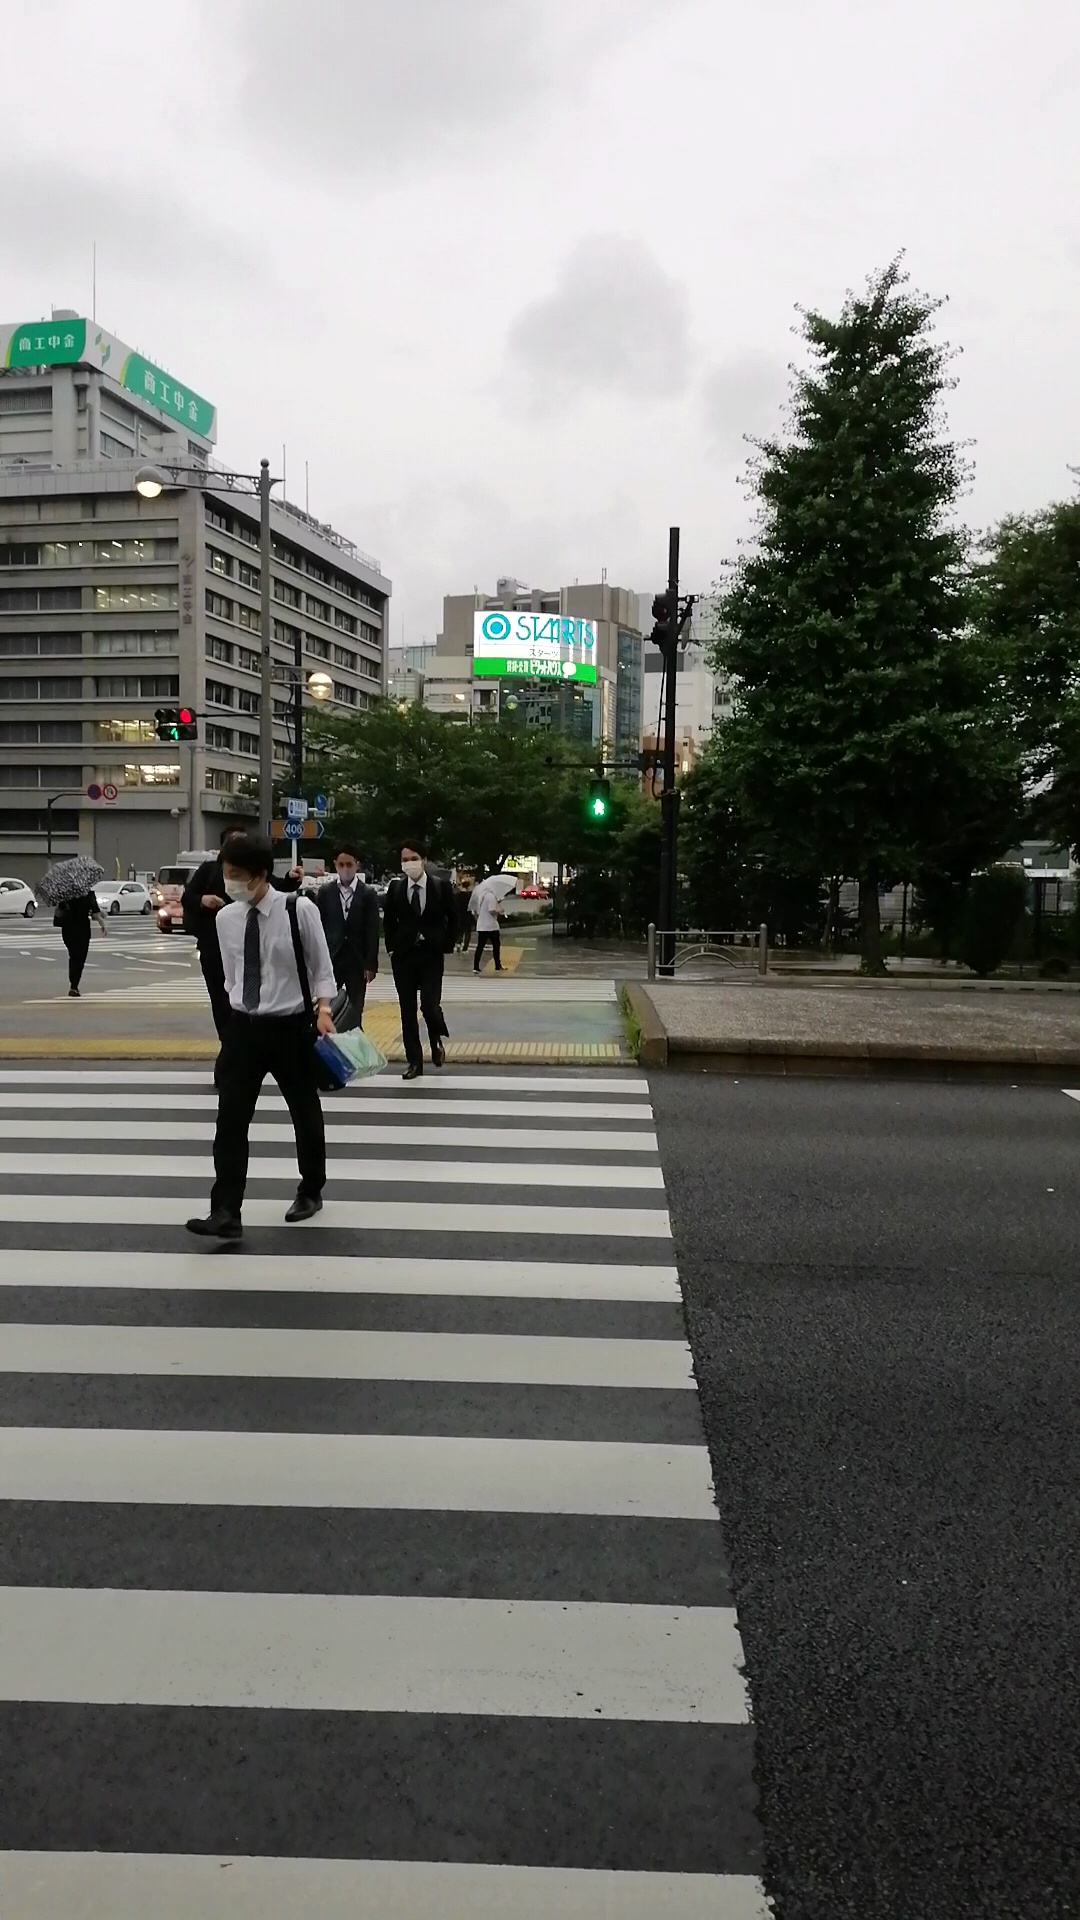green: (587, 775, 611, 820)
